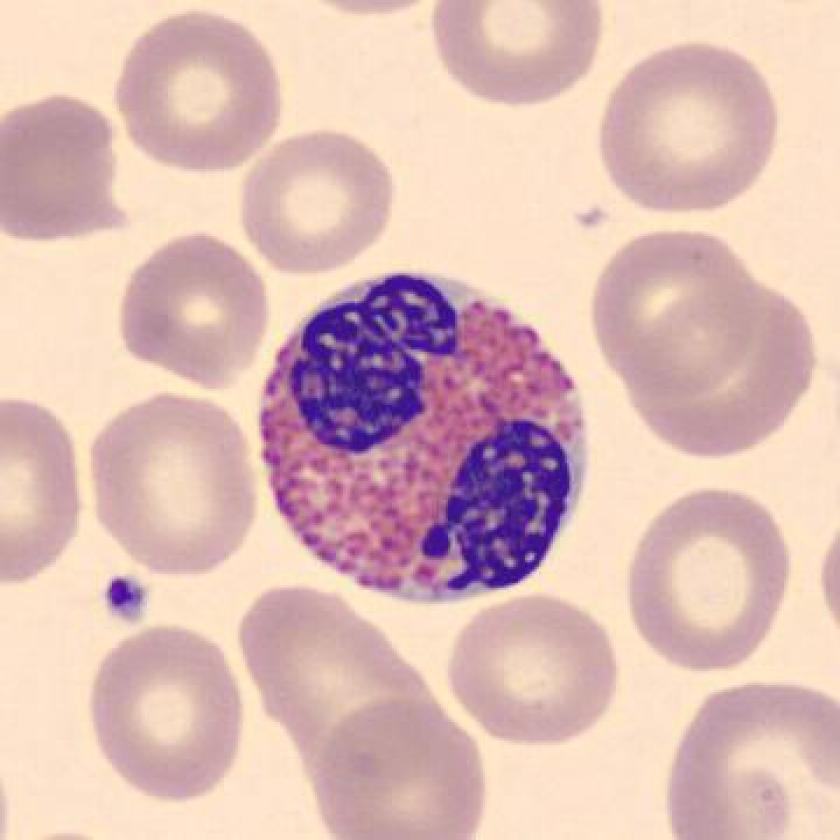eosinophil: (251, 260, 598, 612)
